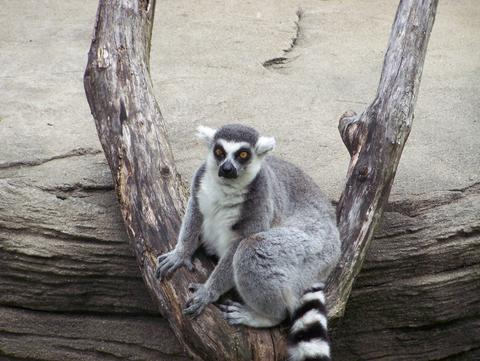cat: (154, 125, 341, 360)
